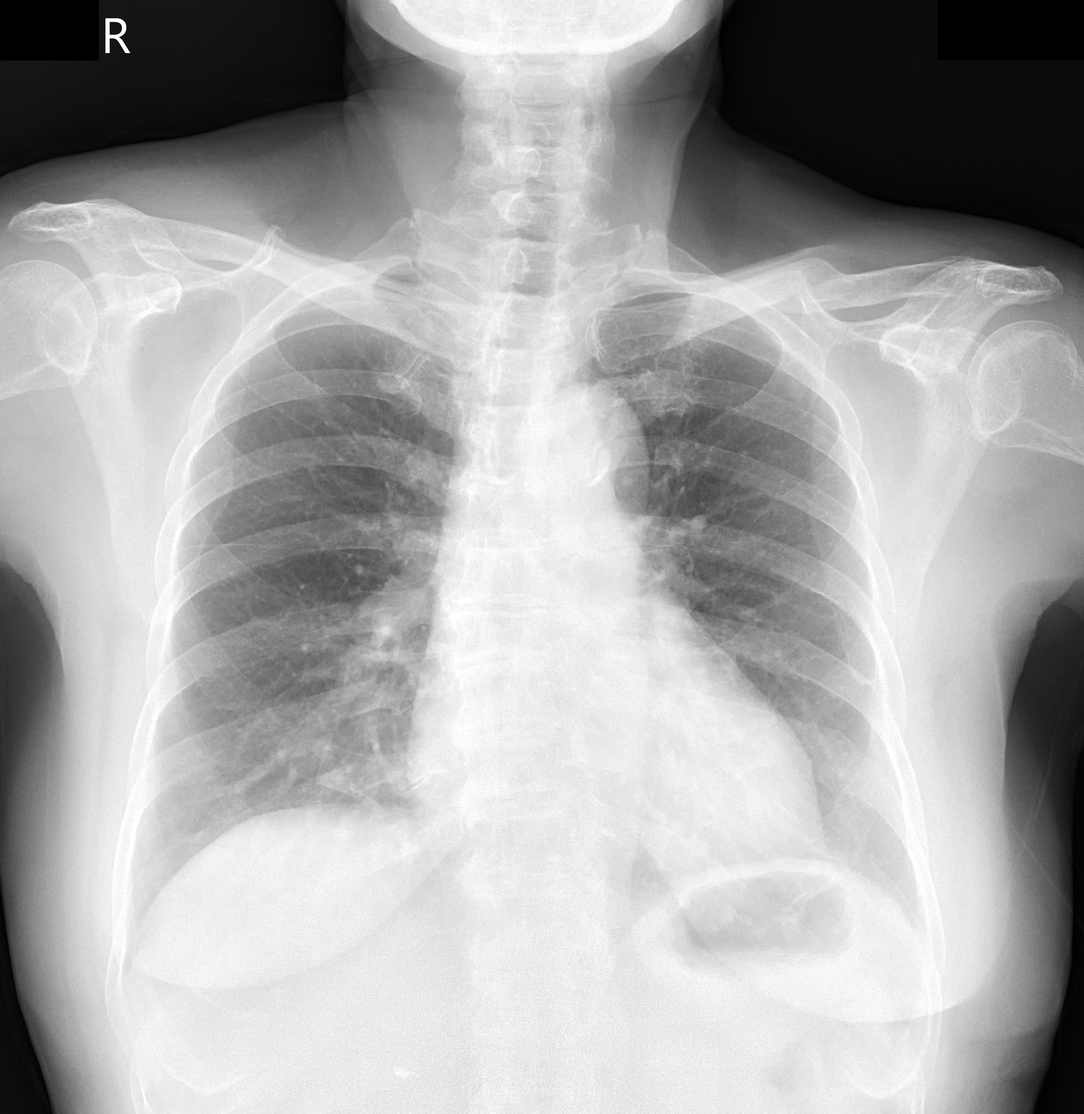Aortic enlargement: (536, 384, 649, 507)
